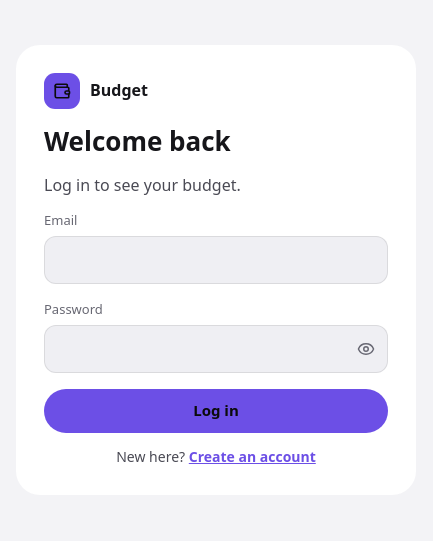
a 401 from the backend is shown and you stay on the login page
The width and height of the screenshot is (433, 541).
Type "alice@example.com" into the field labelled "Email". click: x=216, y=260
box: x1=44 y1=236 x2=388 y2=284
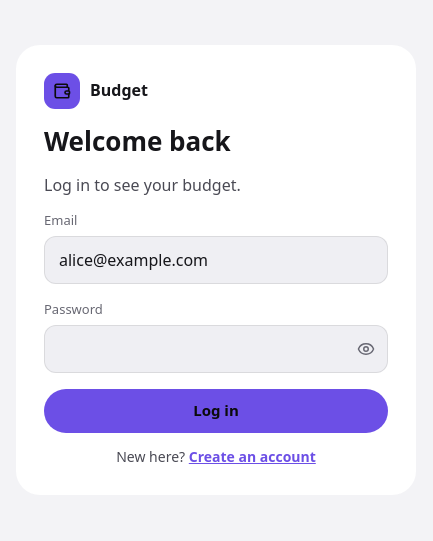
Type "not the password" into the password field labelled "Password". click: x=216, y=349
box: x1=44 y1=325 x2=388 y2=373
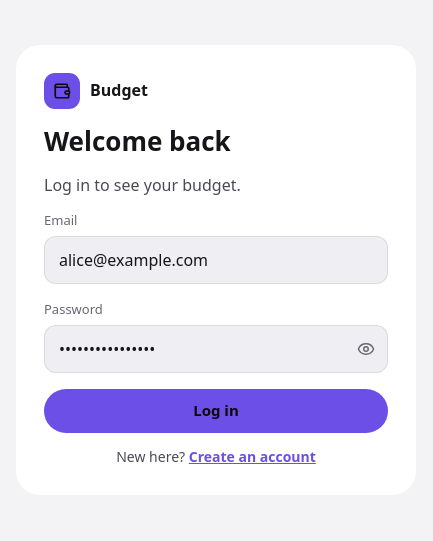
Click the button "Log in". click: x=216, y=411
box: x1=44 y1=389 x2=388 y2=433
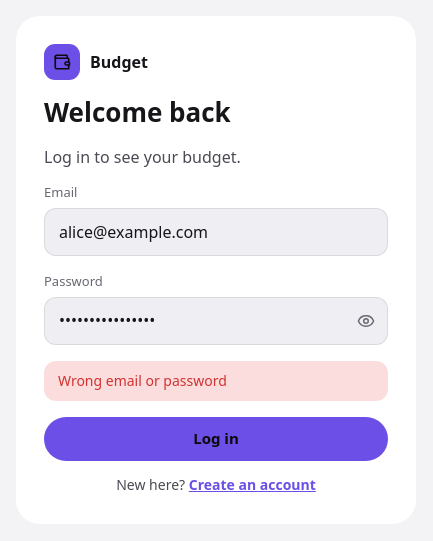
Expected: the heading "Welcome back" is shown, x1=44 y1=94 x2=231 y2=130
Expected: the message reads "Wrong email or password", x1=58 y1=371 x2=227 y2=390
